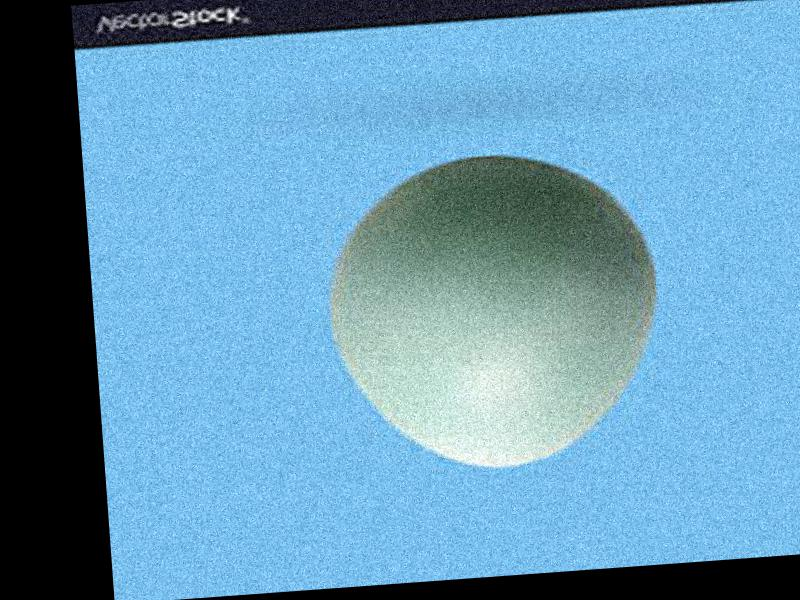Eggs: (321, 146, 672, 478)
